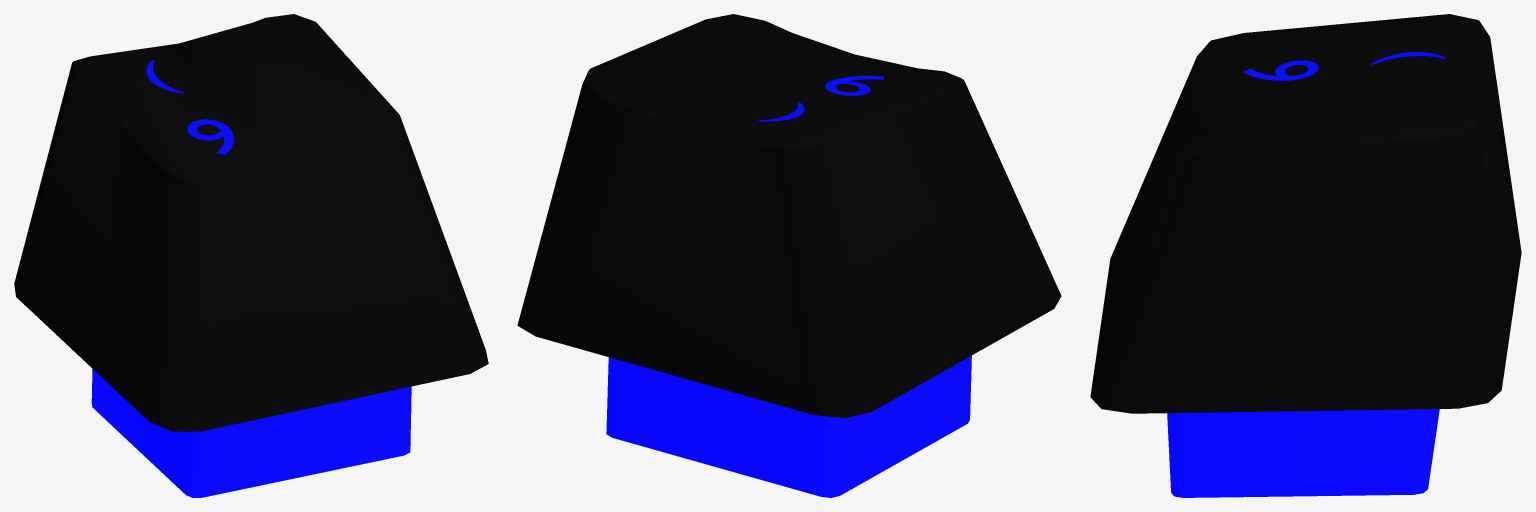
The model's file is key_9-pUU-4GPV.glb.
The picture shows the model from 3 angles, left to right: view 1: azimuth 30°, elevation 25°; view 2: azimuth 150°, elevation 25°; view 3: azimuth 270°, elevation 25°; orthographic projection. The views are drawn at different scales.
Parts seen in each view (by area): view 1: StudyShelf_578; view 2: StudyShelf_578; view 3: StudyShelf_578.
Part boxes in pixels (x1,y1,x2,y2): StudyShelf_578: (14, 14, 488, 497); StudyShelf_578: (517, 14, 1061, 497); StudyShelf_578: (1090, 14, 1521, 497).
Bounding box in the file's own units: 4.35 × 4.14 × 4.35.
